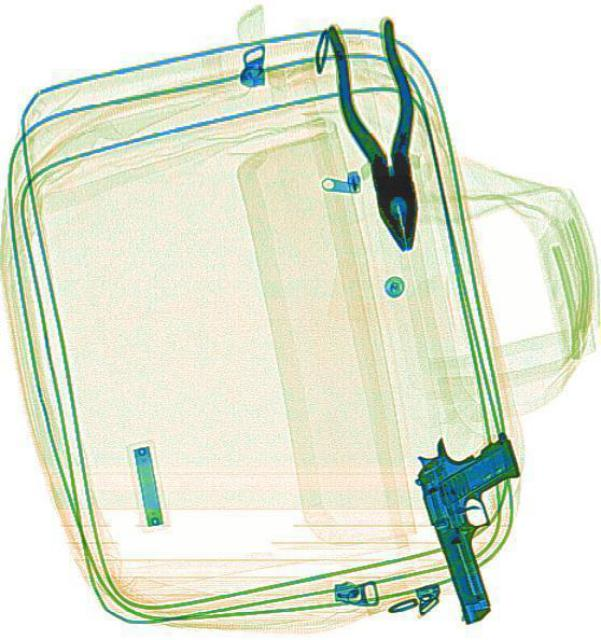Gun: (405, 417, 560, 625)
Pliers: (320, 9, 442, 258)
